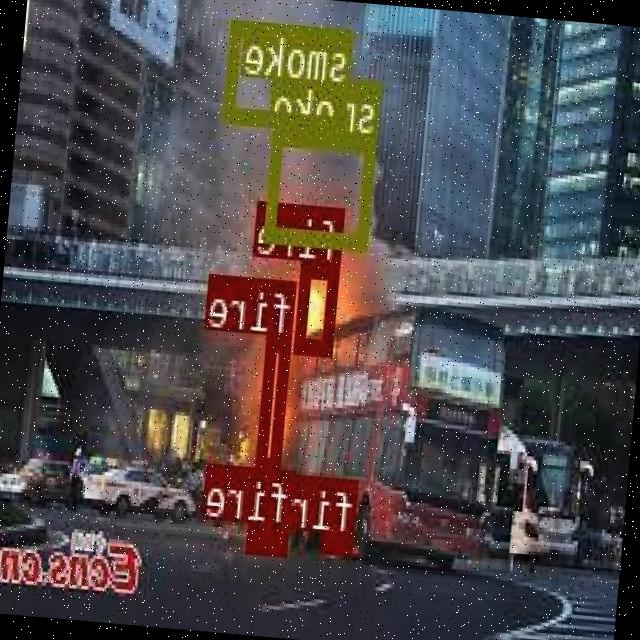fire: (257, 333, 294, 472), (296, 260, 341, 354), (248, 520, 292, 553), (324, 530, 356, 553)
smoke: (227, 19, 355, 130), (265, 125, 378, 248)
